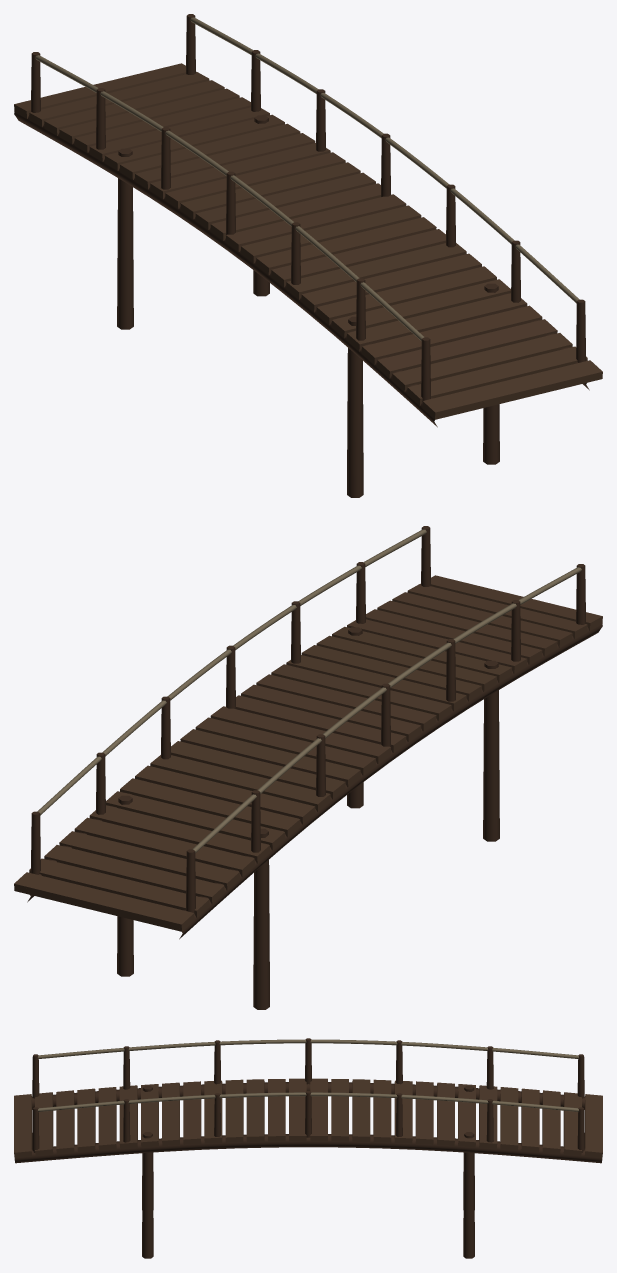
The model's file is wooden_bridge.glb.
3 renders of one model, top to bottom at view 1: azimuth 30°, elevation 25°; view 2: azimuth 150°, elevation 25°; view 3: azimuth 270°, elevation 25°, orthographic. The views are drawn at different scales.
Visible parts, largest first — view 1: Wooden_Bridge; view 2: Wooden_Bridge; view 3: Wooden_Bridge.
Part boxes in pixels (<box>): Wooden_Bridge: <box>14,14,602,497</box>; Wooden_Bridge: <box>14,526,602,1009</box>; Wooden_Bridge: <box>14,1038,602,1258</box>.
Size of the model in its own units: 3.22 by 4.38 by 13.93.
